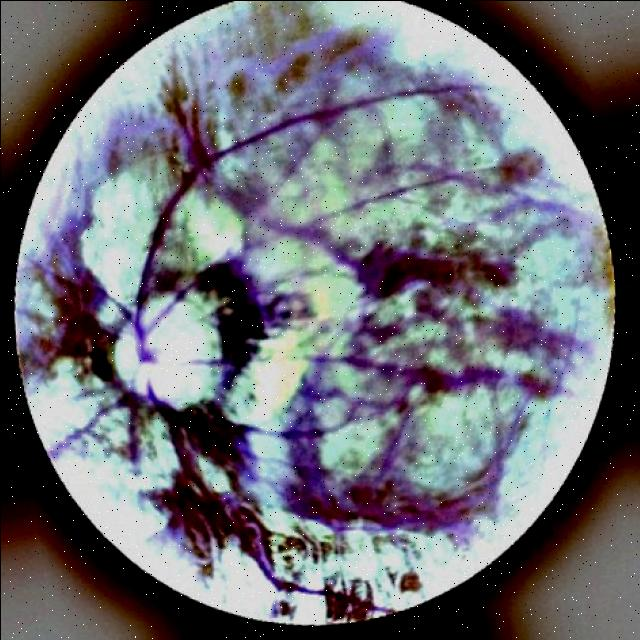Nerves: (131, 87, 419, 348)
Optic Disk: (113, 286, 221, 408)
